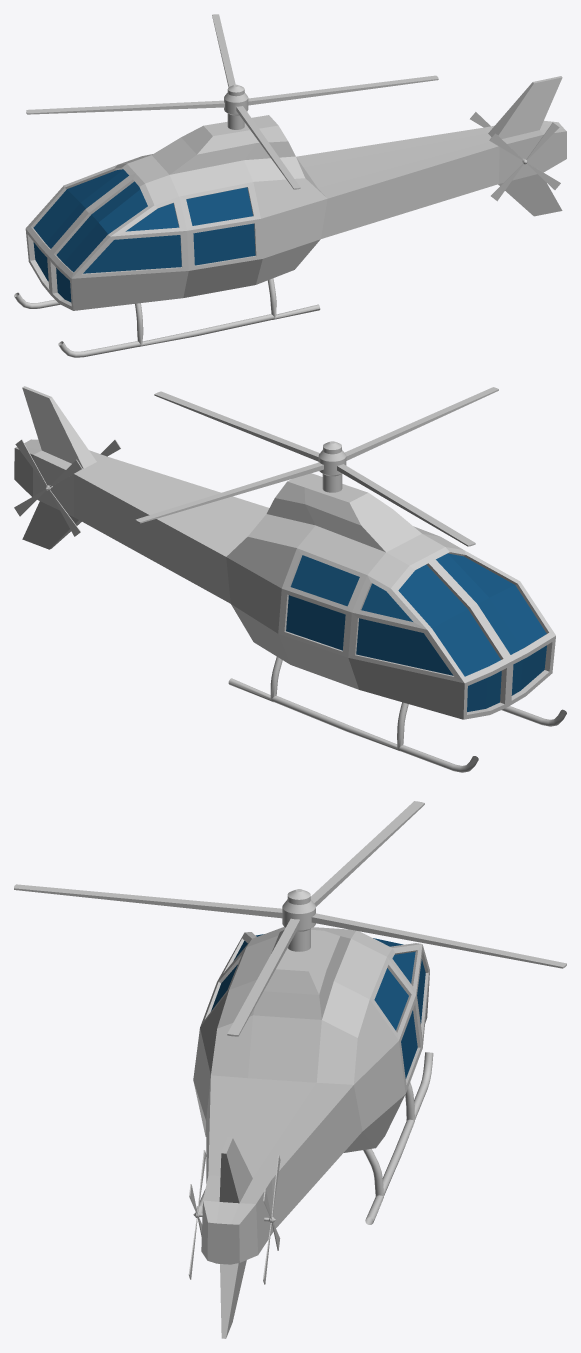
Rendered from helicopter_animation_000202.obj.
3 views of the same model, one above another, from view 1: azimuth 30°, elevation 25°; view 2: azimuth 150°, elevation 25°; view 3: azimuth 270°, elevation 25° (orthographic). The views are drawn at different scales.
Visible parts, largest first — view 1: Helicopter.007_Cylinder.008, Helicopter.001_Cylinder.001, Helicopter.003_Cylinder.004; view 2: Helicopter.007_Cylinder.008, Helicopter.001_Cylinder.001, Helicopter.004_Cylinder.005; view 3: Helicopter.007_Cylinder.008, Helicopter.001_Cylinder.001.
Boxes of the visible parts, x1,y1,x2,y2 form: Helicopter.007_Cylinder.008: [14, 76, 566, 357]; Helicopter.001_Cylinder.001: [26, 14, 438, 189]; Helicopter.003_Cylinder.004: [489, 122, 560, 201]; Helicopter.007_Cylinder.008: [14, 386, 566, 772]; Helicopter.001_Cylinder.001: [135, 387, 498, 546]; Helicopter.004_Cylinder.005: [14, 439, 82, 536]; Helicopter.007_Cylinder.008: [193, 926, 433, 1338]; Helicopter.001_Cylinder.001: [14, 801, 566, 1036].
Bounding box in the file's own units: 7.55 × 3.2 × 5.29.
